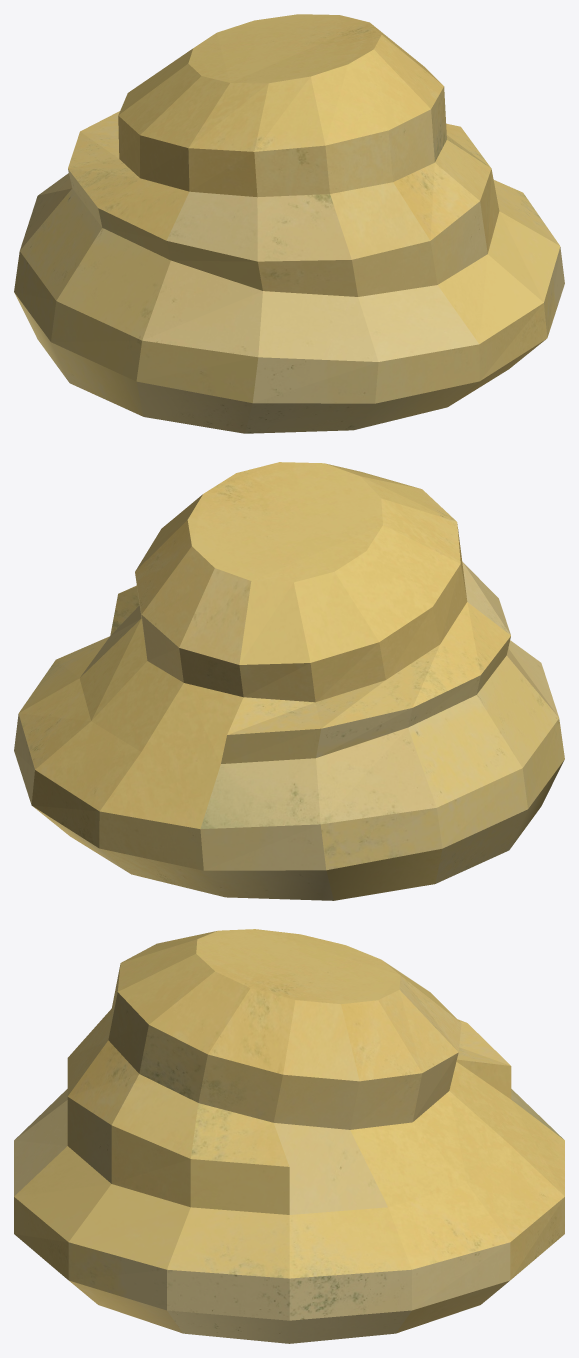
The model's file is Topping.fbx.
The picture shows the model from 3 angles, top to bottom: view 1: azimuth 30°, elevation 25°; view 2: azimuth 150°, elevation 25°; view 3: azimuth 270°, elevation 25°; orthographic projection.
Parts seen in each view (by area): view 1: Cylinder001; view 2: Cylinder001; view 3: Cylinder001.
Part boxes in pixels (x1=…): Cylinder001: x1=14, y1=14, x2=564, y2=433; Cylinder001: x1=14, y1=462, x2=564, y2=900; Cylinder001: x1=14, y1=929, x2=564, y2=1343.
Size of the model in its own units: 102 by 60.4 by 102.
Materials: 1 (1 with a texture image).
